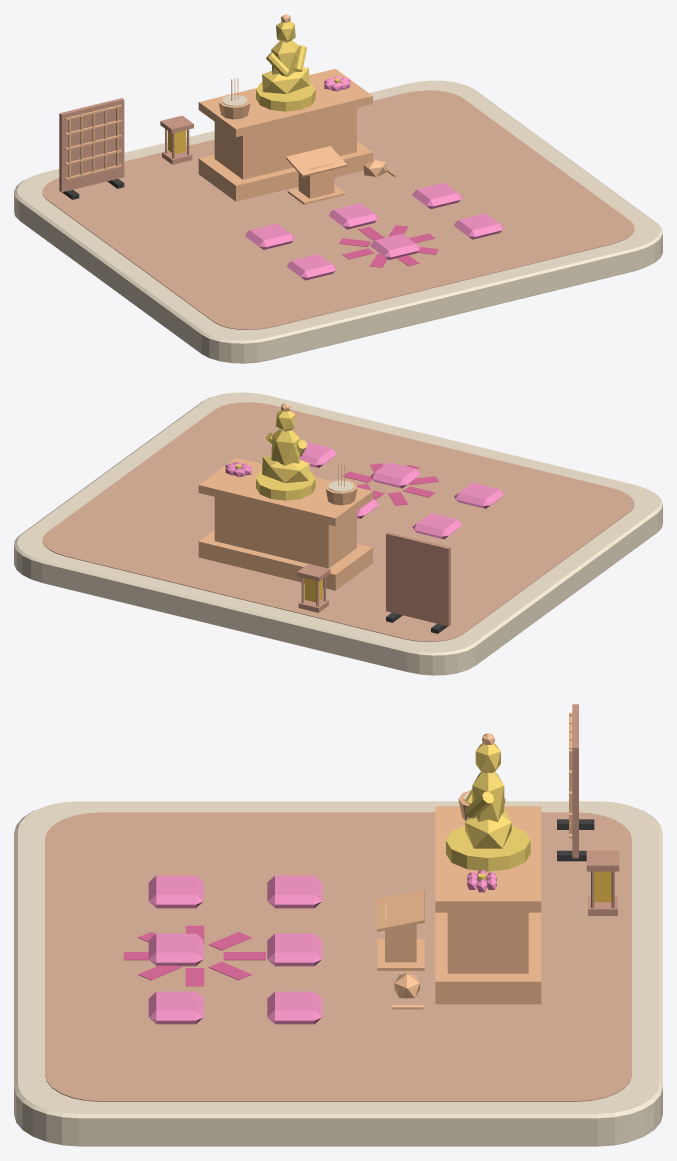
3 renders of one model, top to bottom at view 1: azimuth 30°, elevation 25°; view 2: azimuth 150°, elevation 25°; view 3: azimuth 270°, elevation 25°, orthographic. The views are drawn at different scales.
Parts seen in each view (by area): view 1: COM-02 Floor Surface, COM-01 Rounded Base Direct, Altar, Panel, Top, Base, Reading top, Lotus base, Folded legs, Body, Meditation cushion.001, Meditation cushion.005 (+5 smaller); view 2: COM-02 Floor Surface, COM-01 Rounded Base Direct, Altar, Panel, Top, Base, Lotus base, Folded legs, Robe torso, Meditation cushion, Meditation cushion.003, Meditation cushion.004 (+2 smaller); view 3: COM-02 Floor Surface, COM-01 Rounded Base Direct, Top, Altar, Base, Lotus base, Meditation cushion.001, Meditation cushion.002, Meditation cushion.003, Meditation cushion.005, Meditation cushion, Meditation cushion.004 (+8 smaller).
Part boxes in pixels (box(x1,y1,x2,y2)): COM-02 Floor Surface: box(42, 90, 634, 330); COM-01 Rounded Base Direct: box(14, 80, 662, 363); Altar: box(214, 108, 356, 179); Panel: box(59, 98, 124, 192); Top: box(198, 69, 372, 137); Base: box(198, 141, 372, 201); Reading top: box(286, 146, 347, 176); Lotus base: box(256, 82, 315, 111); Folded legs: box(262, 67, 309, 94); Body: box(298, 163, 334, 198); Meditation cushion.001: box(328, 203, 378, 229); Meditation cushion.005: box(454, 213, 504, 239); COM-02 Floor Surface: box(42, 402, 634, 641); COM-01 Rounded Base Direct: box(14, 392, 662, 675); Altar: box(214, 497, 356, 568); Panel: box(386, 532, 450, 626); Top: box(198, 458, 372, 526); Base: box(198, 530, 372, 590); Lotus base: box(256, 471, 315, 500); Folded legs: box(262, 456, 309, 483); Robe torso: box(271, 429, 300, 465); Meditation cushion: box(412, 513, 462, 539); Meditation cushion.003: box(454, 482, 503, 508); Meditation cushion.004: box(370, 462, 420, 488); COM-02 Floor Surface: box(45, 812, 631, 1101); COM-01 Rounded Base Direct: box(14, 801, 662, 1146); Top: box(435, 806, 541, 912); Altar: box(447, 912, 528, 973); Base: box(435, 912, 541, 1004); Lotus base: box(446, 825, 530, 871); Meditation cushion.001: box(267, 933, 322, 966); Meditation cushion.002: box(267, 991, 322, 1024); Meditation cushion.003: box(148, 875, 203, 908); Meditation cushion.005: box(148, 991, 203, 1024); Meditation cushion: box(267, 875, 322, 908); Meditation cushion.004: box(148, 933, 203, 966).
Size of the model in its own units: 6 by 2.27 by 5.2.
1 material, 1 textured.
